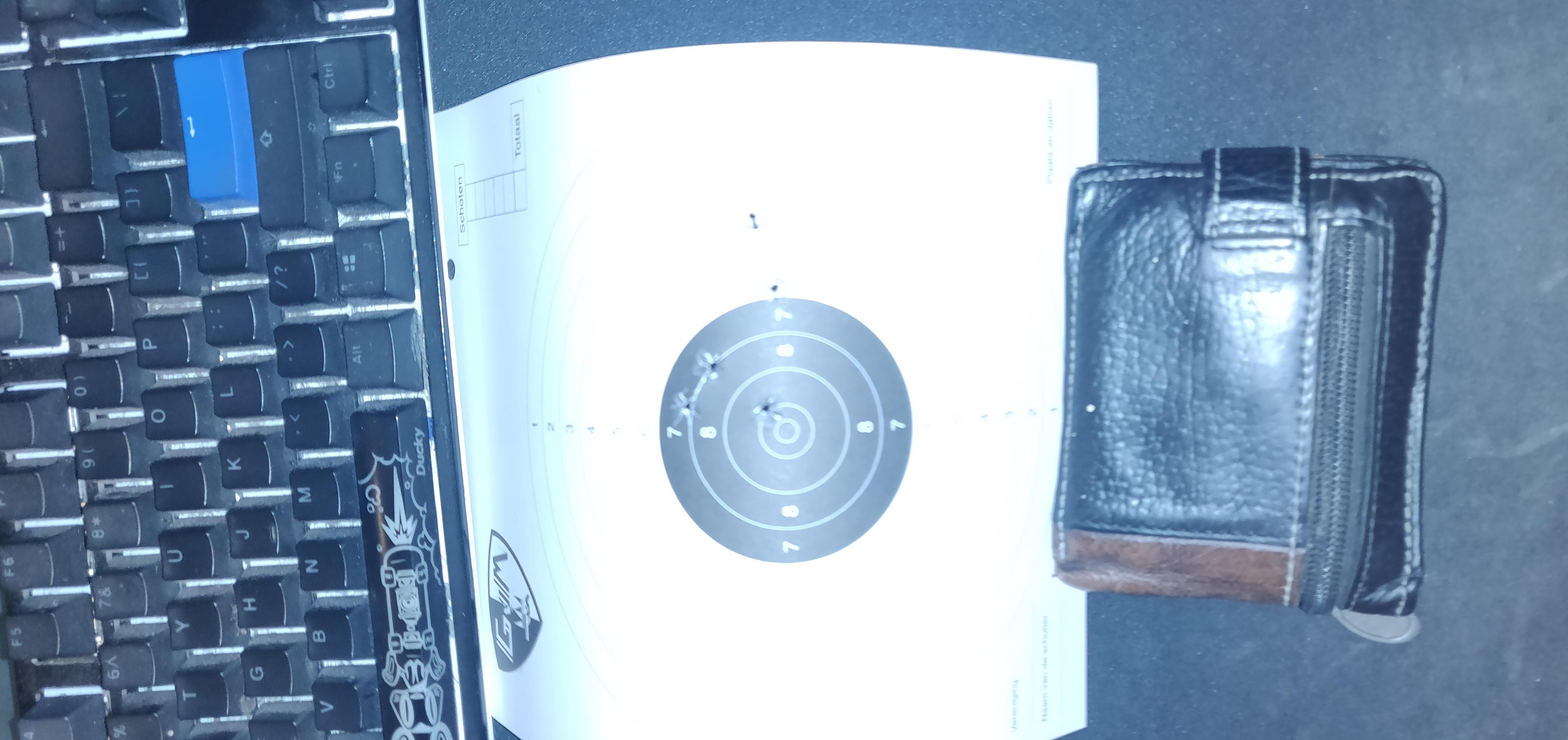hole: (1064, 345, 1138, 362), (669, 316, 746, 332), (661, 353, 732, 370), (760, 326, 831, 343), (926, 356, 999, 371)
